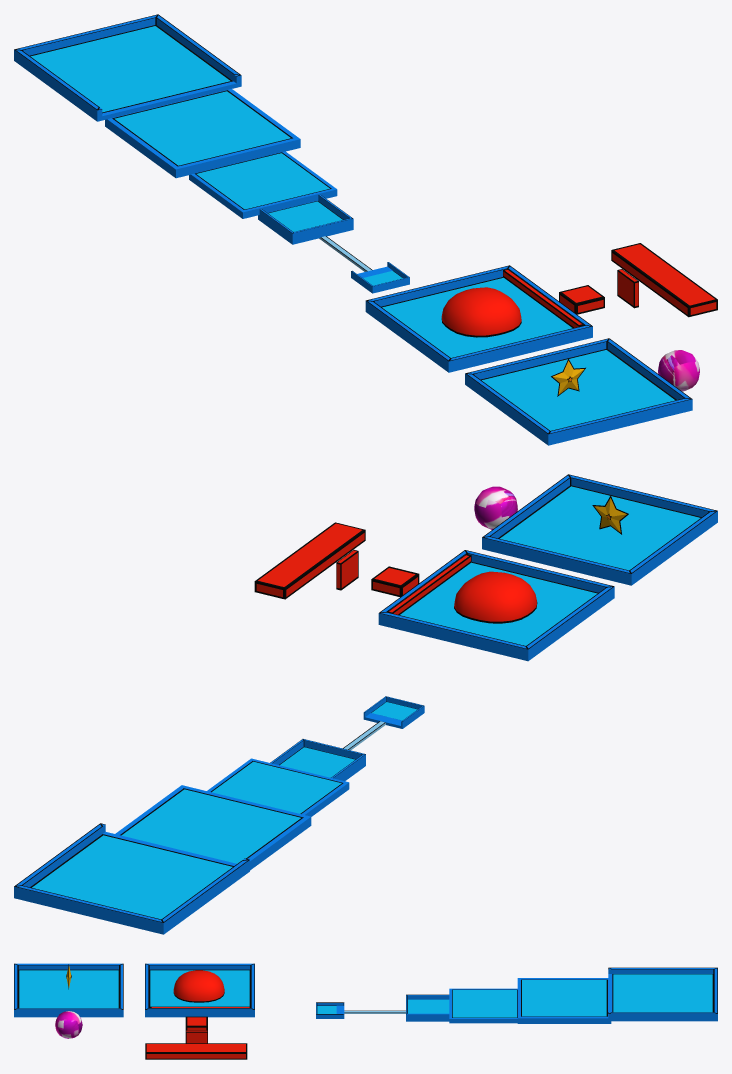
Rendered from balls.fbx.
3 renders of one model, top to bottom at view 1: azimuth 30°, elevation 25°; view 2: azimuth 150°, elevation 25°; view 3: azimuth 270°, elevation 25°, orthographic. The views are drawn at different scales.
Parts seen in each view (by area): view 1: Куб.008, Куб.001, Куб.002, Куб.010, Куб.014, Куб.007, Куб.003, Куб.011, Куб.013, Cube, Куб.012, Куб.004 (+1 smaller); view 2: Куб.001, Куб.008, Куб.002, Куб.010, Куб.014, Куб.007, Куб.003, Куб.011, Cube, Куб.012, Куб.013, Куб.004 (+2 smaller); view 3: Куб.008, Куб.001, Куб.002, Куб.010, Куб.014, Куб.007, Куб.003, Куб.011, Куб.013, Cube, Куб.012, Куб.004 (+3 smaller).
Boxes of the visible parts, <box> form: Куб.008: <box>14,14,241,121</box>; Куб.001: <box>465,338,692,445</box>; Куб.002: <box>365,265,592,372</box>; Куб.010: <box>105,89,300,178</box>; Куб.014: <box>189,151,337,218</box>; Куб.007: <box>611,243,717,317</box>; Куб.003: <box>441,287,521,337</box>; Куб.011: <box>258,201,353,243</box>; Куб.013: <box>258,194,353,244</box>; Cube: <box>658,350,699,391</box>; Куб.012: <box>351,262,409,293</box>; Куб.004: <box>559,285,604,314</box>; Куб.001: <box>482,474,717,585</box>; Куб.008: <box>14,823,249,934</box>; Куб.002: <box>378,550,614,661</box>; Куб.010: <box>115,785,311,870</box>; Куб.014: <box>207,758,349,816</box>; Куб.007: <box>254,522,365,599</box>; Куб.003: <box>454,571,537,623</box>; Куб.011: <box>279,746,365,780</box>; Cube: <box>474,486,517,529</box>; Куб.012: <box>363,696,424,728</box>; Куб.013: <box>270,739,365,781</box>; Куб.004: <box>371,566,419,596</box>; Куб.008: <box>608,967,717,1021</box>; Куб.001: <box>14,963,123,1017</box>; Куб.002: <box>145,963,254,1017</box>; Куб.010: <box>517,978,611,1023</box>; Куб.014: <box>449,988,517,1023</box>; Куб.007: <box>145,1043,247,1059</box>; Куб.003: <box>173,970,224,1002</box>; Куб.011: <box>406,999,449,1021</box>; Куб.013: <box>406,994,449,1021</box>; Cube: <box>55,1011,82,1038</box>; Куб.012: <box>316,1002,344,1018</box>; Куб.004: <box>185,1016,207,1030</box>.
Size of the model in its own units: 1834 by 458 by 6304.
